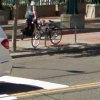Bicycle: (29, 20, 66, 53)
